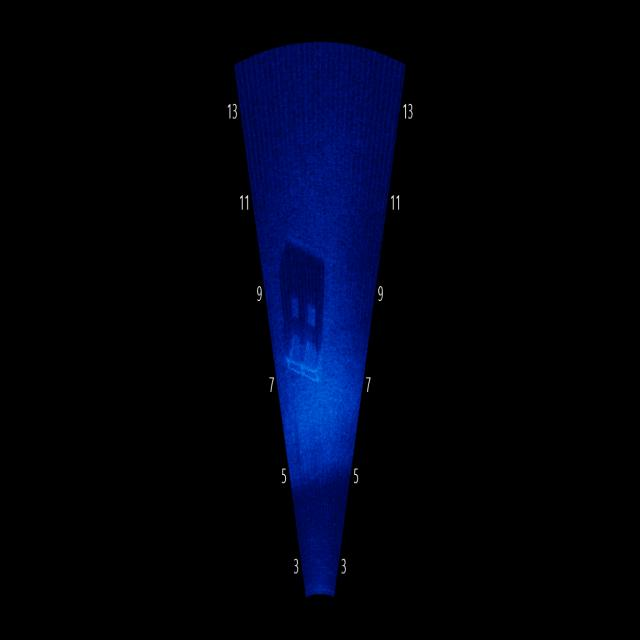square: (282, 314, 332, 392)
